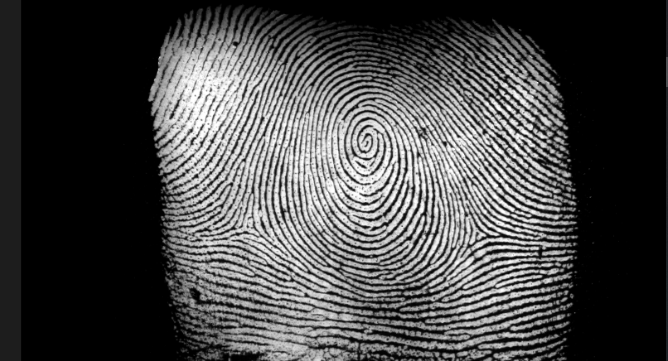nucelo: (347, 117, 385, 160)
verticilo: (228, 209, 265, 242), (463, 218, 492, 245)
